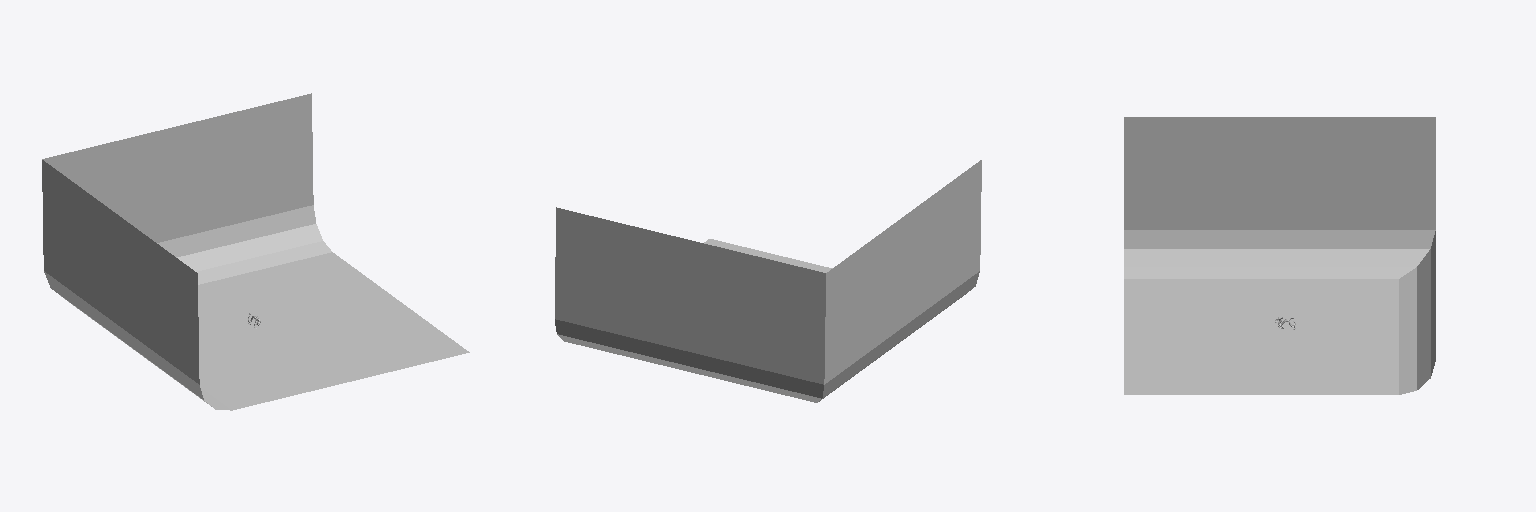
Rendered from drakon.obj.
The picture shows the model from 3 angles: view 1: azimuth 30°, elevation 25°; view 2: azimuth 150°, elevation 25°; view 3: azimuth 270°, elevation 25°; orthographic projection.
Parts seen in each view (by area): view 1: Plane.001; view 2: Plane.001; view 3: Plane.001.
Boxes of the visible parts, <box> form: Plane.001: <box>42,93,469,410</box>; Plane.001: <box>555,160,981,402</box>; Plane.001: <box>1124,117,1435,394</box>.
Bounding box in the file's own units: 67.18 × 34.42 × 66.61.